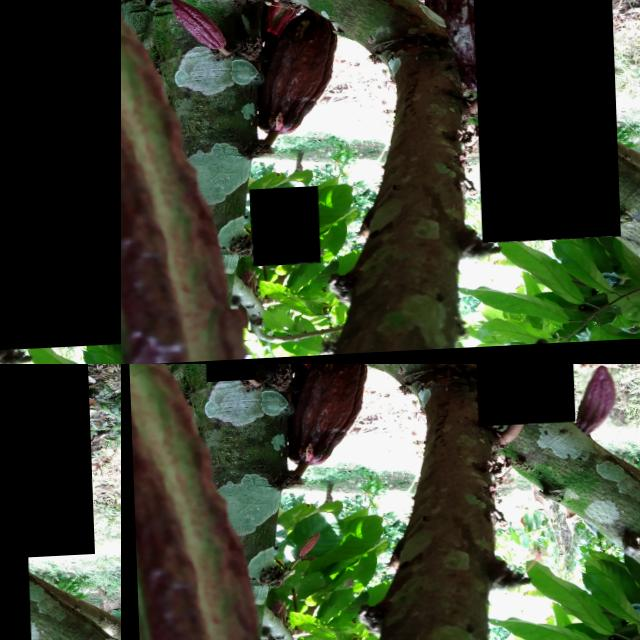Fitoftora: (278, 364, 370, 467)
Monilia: (0, 0, 121, 364), (470, 364, 572, 429)
Sana: (471, 0, 616, 247), (0, 364, 91, 565), (246, 188, 316, 268), (577, 373, 616, 437), (203, 364, 253, 382)
